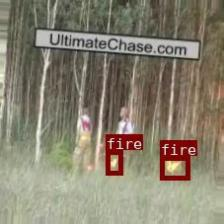fire: (159, 155, 189, 179), (105, 150, 122, 174)
